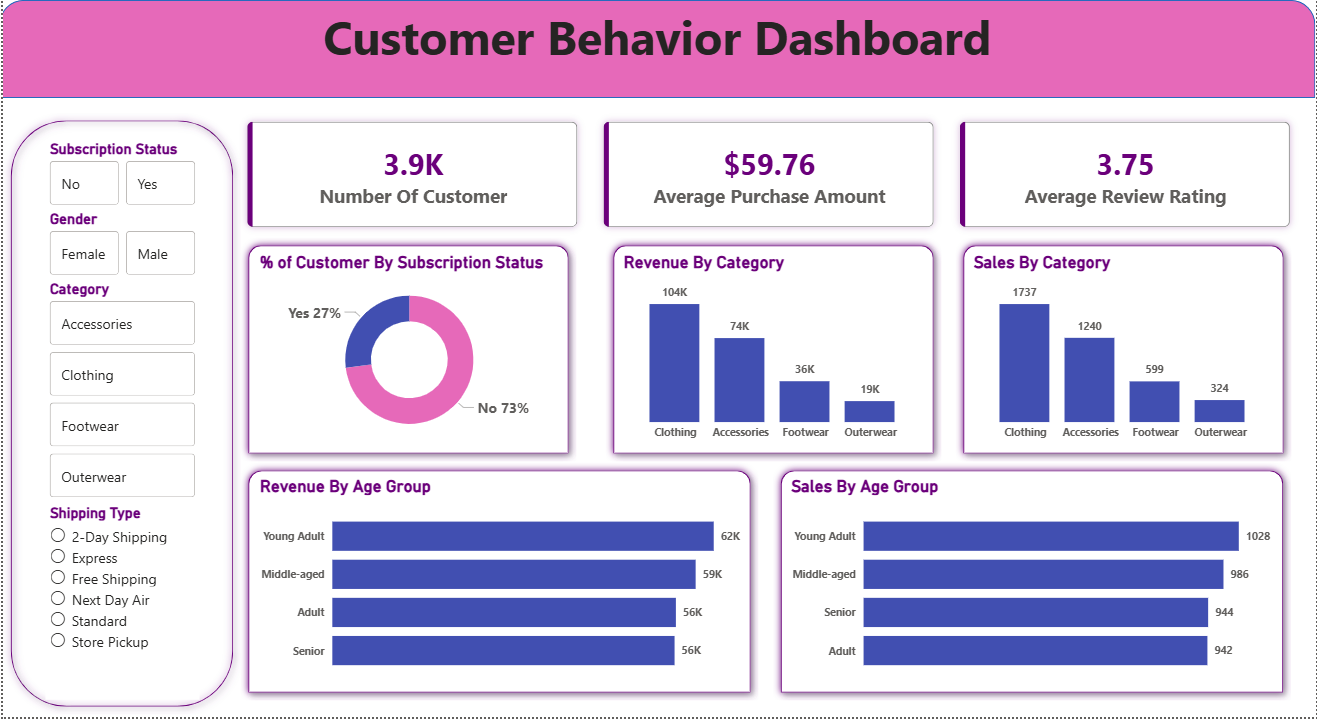

What the dashboard file says about the page in this screenshot:
{"tool":"powerbi","page":{"name":"Page 1","canvas":[1500,820],"ordinal":0},"visuals":[{"type":"cardVisual","fields":{"Data":["Query1.Number Of Customer","Query1.Average Purchase Amount","Query1.Average Review Rating"]},"box":[252,112,1248,176],"z":0},{"type":"shape","box":[-4,0,1504,112],"z":1000},{"type":"textbox","box":[-4,0,1504,112],"z":2000},{"type":"shape","box":[272,272,384,256],"z":3000},{"type":"donutChart","title":"% of  Customer By  Subscription Status","fields":{"Category":["Query1.subscription_status"],"Y":["CountNonNull(Query1.customer_id)"]},"box":[288,288,352,224],"z":4000},{"type":"shape","box":[688,272,384,256],"z":5000},{"type":"shape","box":[1088,272,384,256],"z":6000},{"type":"columnChart","title":"Revenue By Category","fields":{"Y":["Sum(Query1.purchase_amount)"],"Category":["Query1.category"]},"box":[704,288,352,224],"z":6001},{"type":"columnChart","title":"Sales By Category","fields":{"Y":["CountNonNull(Query1.customer_id)"],"Category":["Query1.category"]},"box":[1104,288,352,224],"z":6002},{"type":"shape","box":[0,128,272,688],"z":6003},{"type":"advancedSlicerVisual","title":"Subscription Status","fields":{"Values":["Query1.subscription_status"]},"box":[48,160,176,80],"z":6004},{"type":"advancedSlicerVisual","fields":{"Values":["Query1.gender"]},"box":[48,240,176,80],"z":6005},{"type":"advancedSlicerVisual","fields":{"Values":["Query1.category"]},"box":[48,320,176,256],"z":6006},{"type":"listSlicer","fields":{"Values":["Query1.shipping_type"]},"box":[48,576,176,224],"z":6007},{"type":"shape","box":[272,528,592,272],"z":6008},{"type":"barChart","title":"Revenue By Age Group","fields":{"Y":["Sum(Query1.purchase_amount)"],"Category":["Query1.age_group"]},"box":[288,544,560,240],"z":6009},{"type":"shape","box":[880,528,592,272],"z":6010},{"type":"barChart","title":"Sales By Age Group","fields":{"Y":["CountNonNull(Query1.customer_id)"],"Category":["Query1.age_group"]},"box":[896,544,560,240],"z":6011}]}

Visuals, with their boxes in screenshot pixels (x1, y1, x2, y2), scaled from the page's 1500x820 canvas onto the 1317x720 screenshot:
cardVisual - Query1.Number Of Customer x Query1.Average Purchase Amount: (221, 98, 1316, 253)
shape: (0, 0, 1316, 98)
textbox: (0, 0, 1316, 98)
shape: (239, 239, 576, 464)
"% of  Customer By  Subscription Status" donutChart: (253, 253, 562, 450)
shape: (604, 239, 941, 464)
shape: (955, 239, 1292, 464)
"Revenue By Category" columnChart: (618, 253, 927, 450)
"Sales By Category" columnChart: (969, 253, 1278, 450)
shape: (0, 112, 239, 716)
"Subscription Status" advancedSlicerVisual: (42, 140, 197, 211)
advancedSlicerVisual - Query1.gender: (42, 211, 197, 281)
advancedSlicerVisual - Query1.category: (42, 281, 197, 506)
listSlicer - Query1.shipping_type: (42, 506, 197, 702)
shape: (239, 464, 759, 702)
"Revenue By Age Group" barChart: (253, 478, 745, 688)
shape: (773, 464, 1292, 702)
"Sales By Age Group" barChart: (787, 478, 1278, 688)
